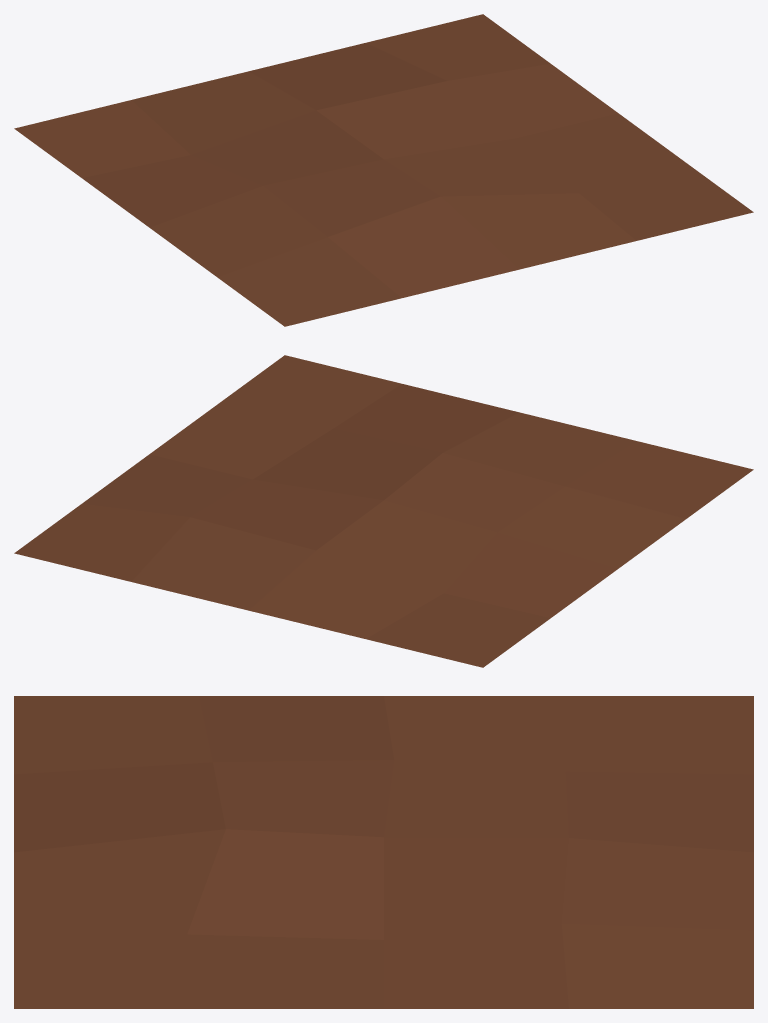
File: SM_dirt_ground_01.fbx
3 views of the same model, one above another, from view 1: azimuth 30°, elevation 25°; view 2: azimuth 150°, elevation 25°; view 3: azimuth 270°, elevation 25° (orthographic). The views are drawn at different scales.
Parts seen in each view (by area): view 1: dirt_ground_01; view 2: dirt_ground_01; view 3: dirt_ground_01.
Part boxes in pixels (x1,y1,x2,y2): dirt_ground_01: (14,14,753,326); dirt_ground_01: (14,355,753,667); dirt_ground_01: (14,696,753,1008).
Size of the model in its own units: 300 by 11.54 by 300.
